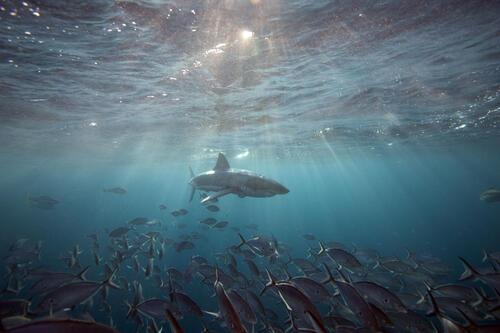shark: (187, 151, 291, 204)
